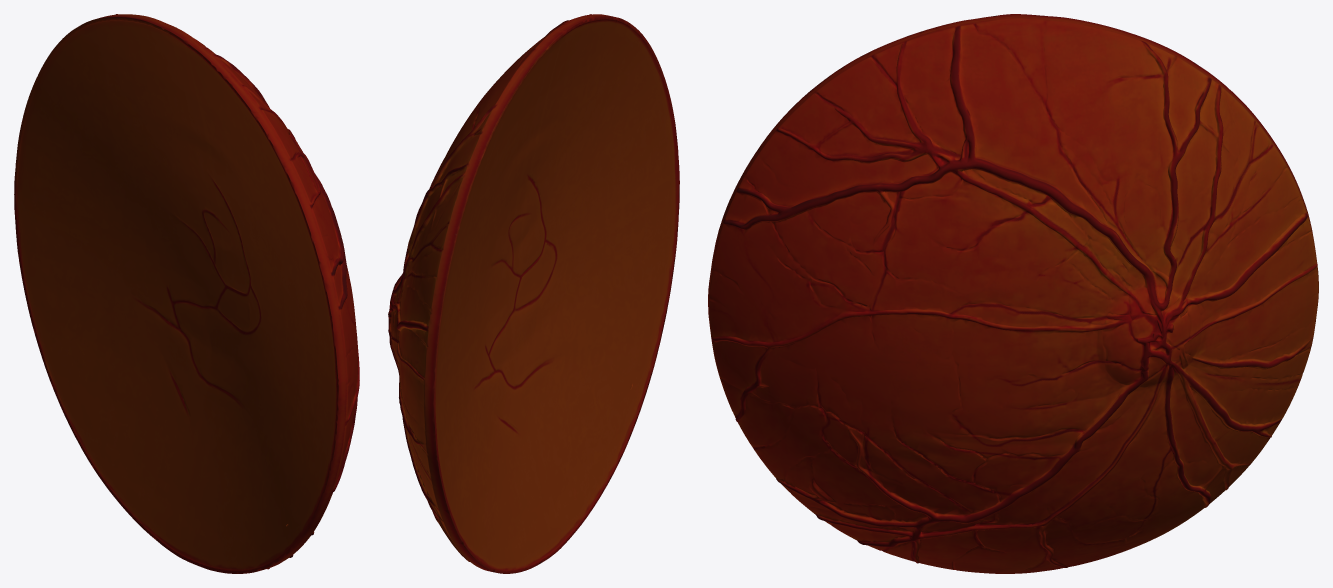
Rendered from eye.glb.
3 views of the same model, side by side, from view 1: azimuth 30°, elevation 25°; view 2: azimuth 150°, elevation 25°; view 3: azimuth 270°, elevation 25° (orthographic). The views are drawn at different scales.
Visible parts, largest first — view 1: tripo_node_d5ff7f0d-f9b4-45a1-8ced-c573993118bb; view 2: tripo_node_d5ff7f0d-f9b4-45a1-8ced-c573993118bb; view 3: tripo_node_d5ff7f0d-f9b4-45a1-8ced-c573993118bb.
Boxes of the visible parts, x1,y1,x2,y2 form: tripo_node_d5ff7f0d-f9b4-45a1-8ced-c573993118bb: (14, 14, 359, 573); tripo_node_d5ff7f0d-f9b4-45a1-8ced-c573993118bb: (388, 14, 679, 573); tripo_node_d5ff7f0d-f9b4-45a1-8ced-c573993118bb: (708, 14, 1318, 573).
Size of the model in its own units: 0.264 by 0.9784 by 0.9765.
Materials: 1 (1 with a texture image).
